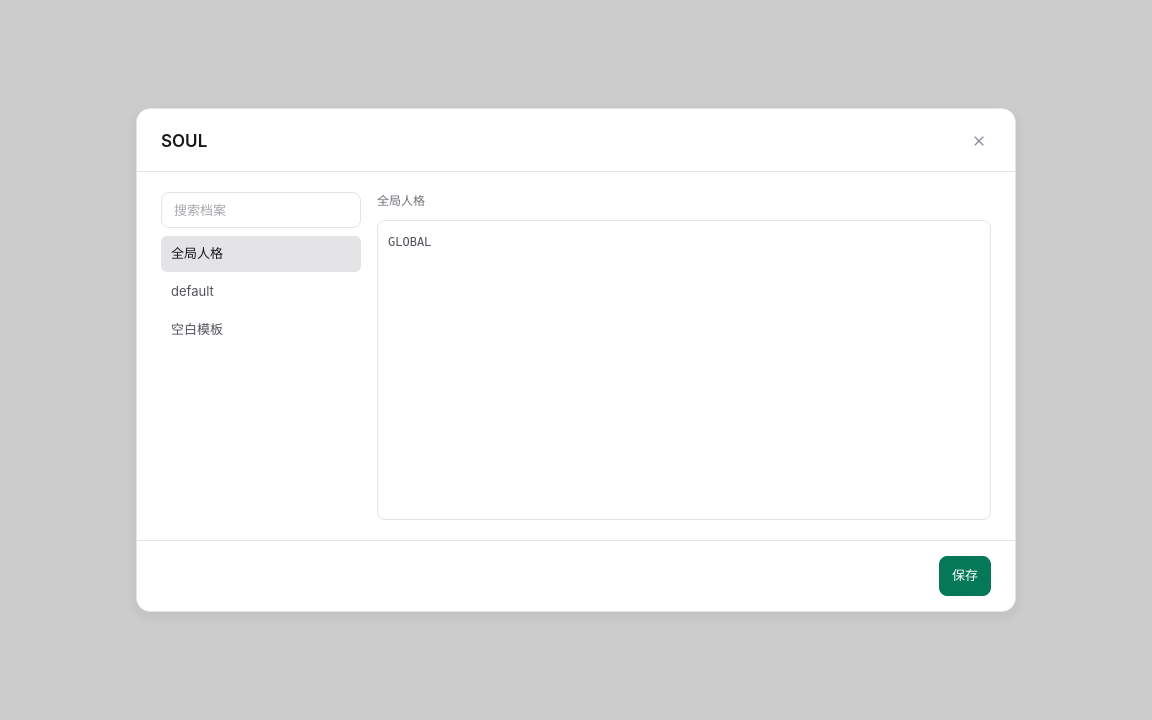
it: IdentityEditor › keeps a single editor, retains drafts across profiles, and stays open after saving
Replace the text in the text box with "GLOBAL EDIT" at (684, 370), box [377,220,991,520]
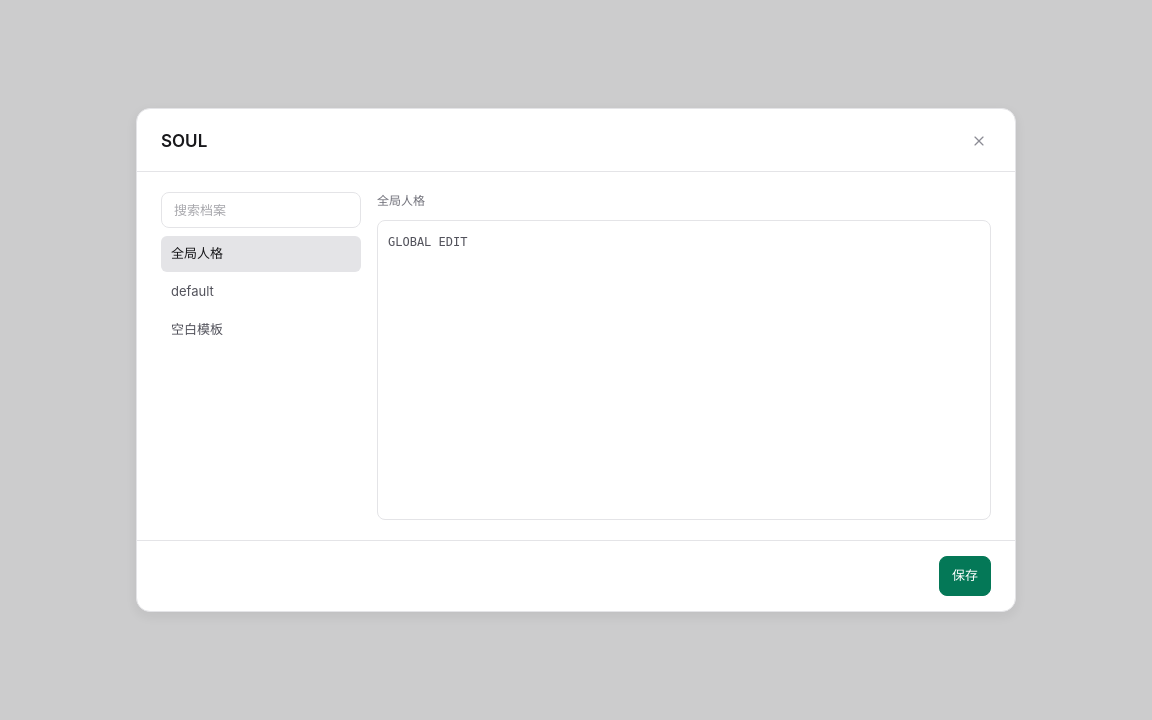
Click the button "空白模板".
click(261, 330)  # box [161,312,361,348]
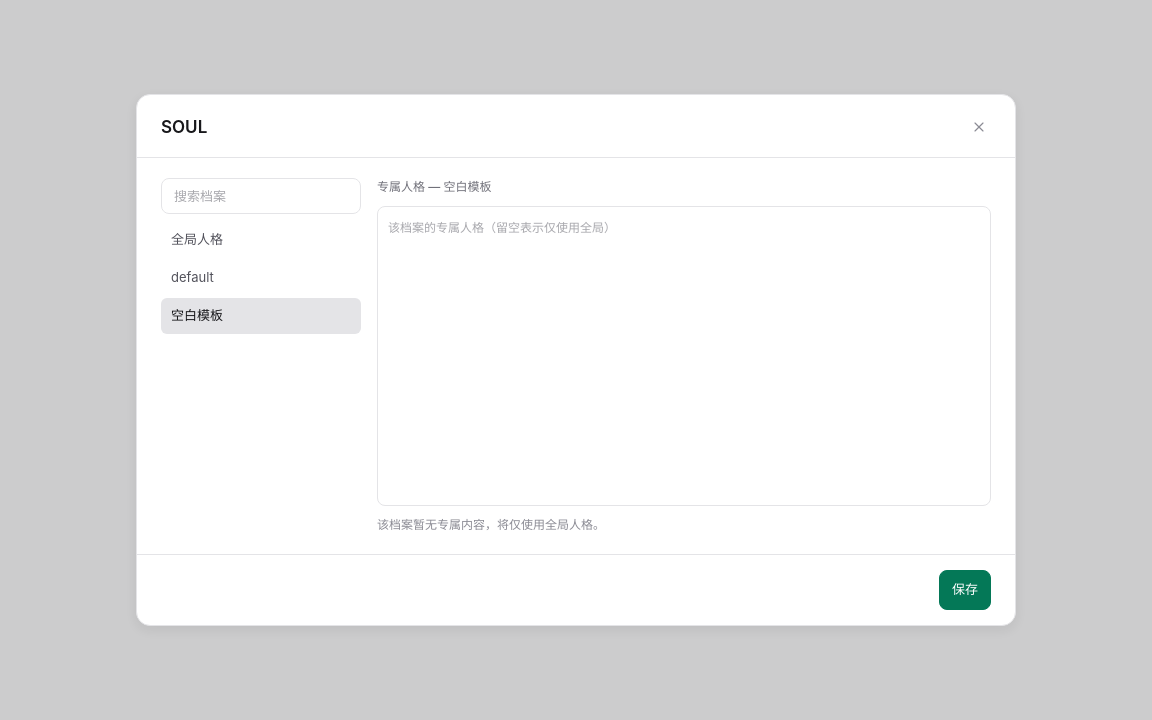
Expected: the text box with placeholder "该档案的专属人格（留空表示仅使用全局）" is empty, [377,206,991,506]
Expected: the text "该档案暂无专属内容，将仅使用全局人格。" is shown, [377,517,605,532]
Click the button "全局人格".
click(261, 240)  # box [161,222,361,258]
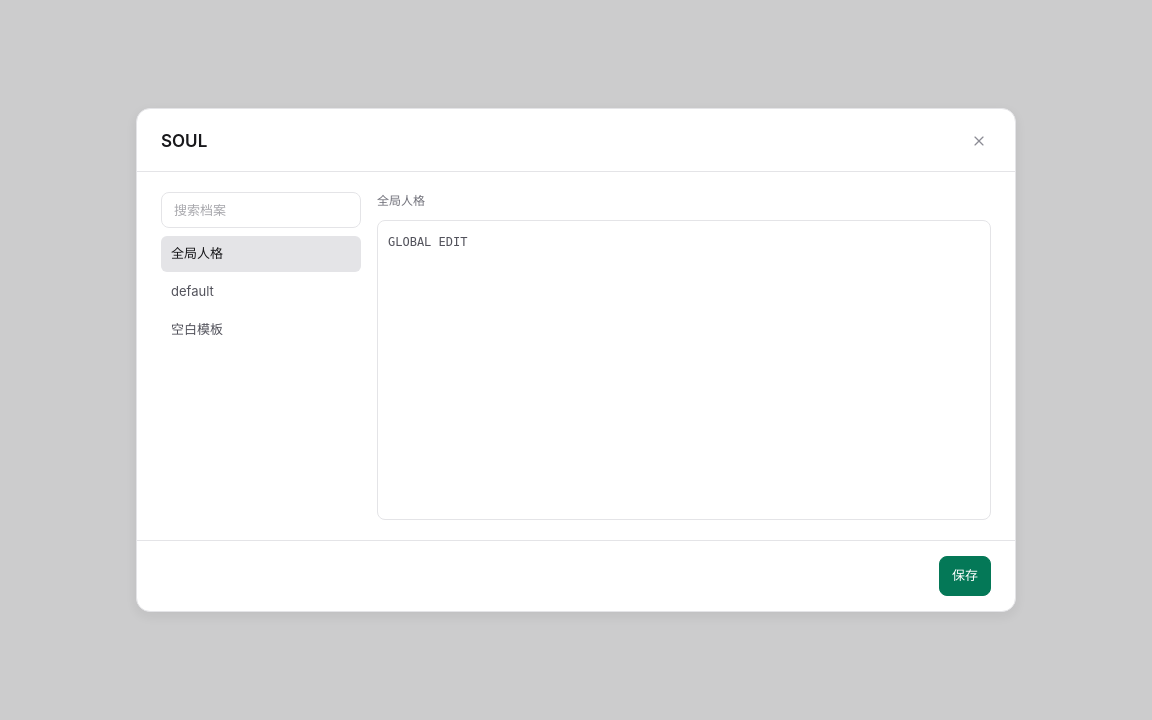
Expected: the text box holds "GLOBAL EDIT", [377,220,991,520]
Click the button "保存".
click(965, 576)  # box [939,556,991,596]
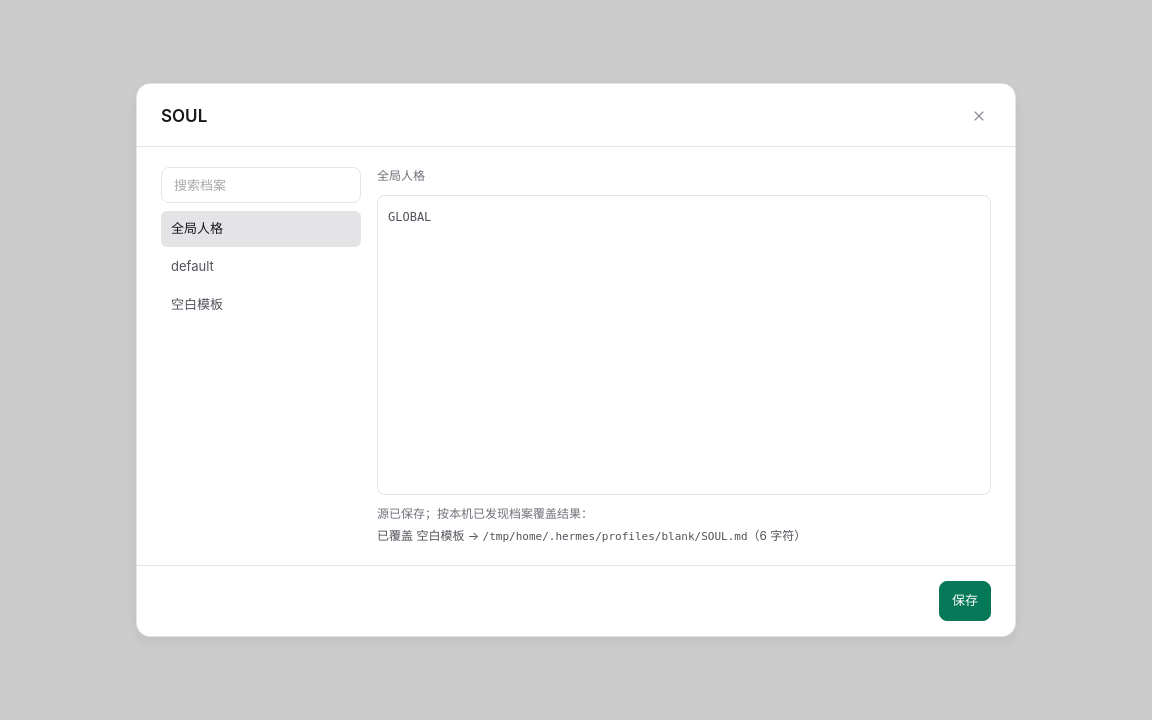
Expected: the heading "SOUL" is shown, [161,104,207,130]
Expected: the text "已覆盖 空白模板" is shown, [377,528,806,542]
